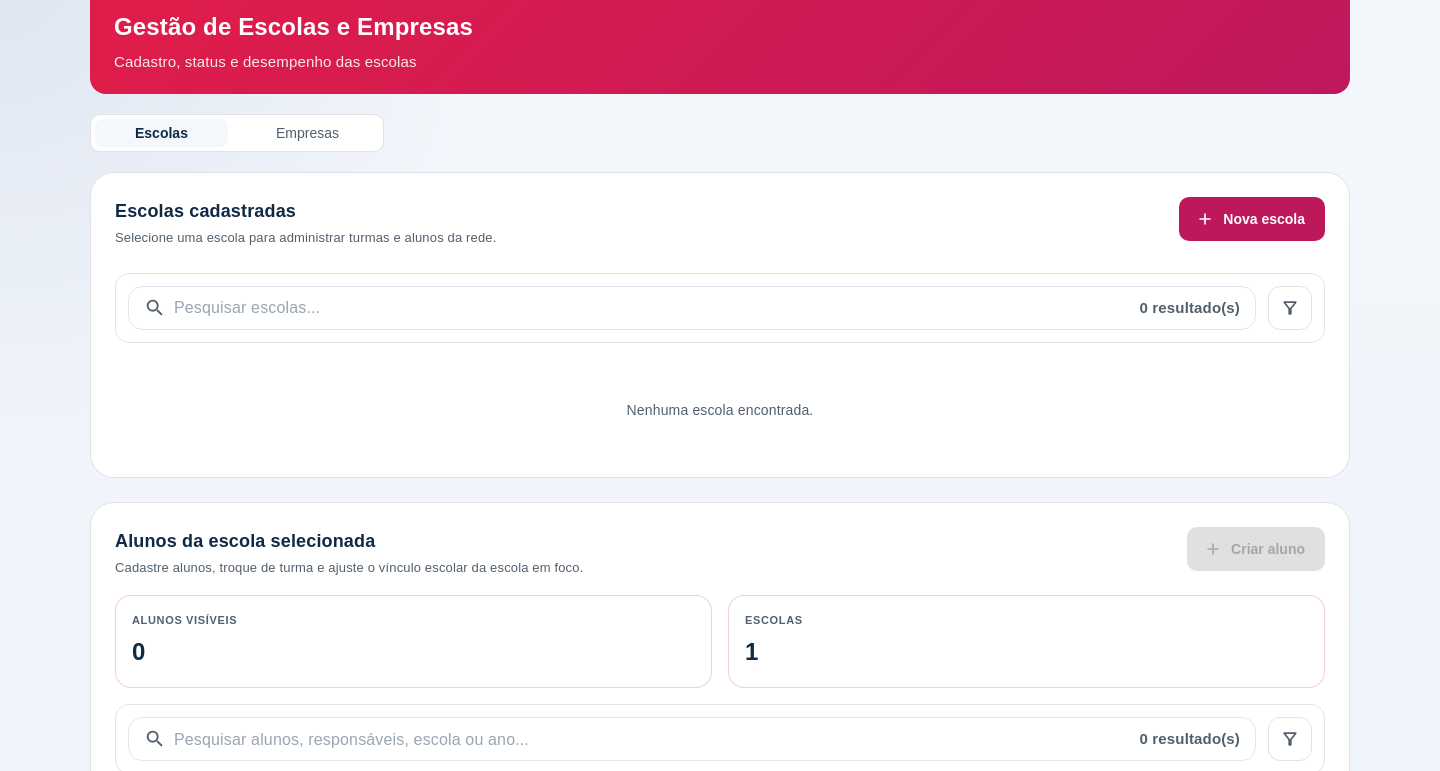
Test: SchoolCompanyPage shows empty requests message
The width and height of the screenshot is (1440, 771).
Click the button with test id "toggle-empresa".
click(307, 133)  # box x1=236 y1=119 x2=379 y2=147
(page scrolled)
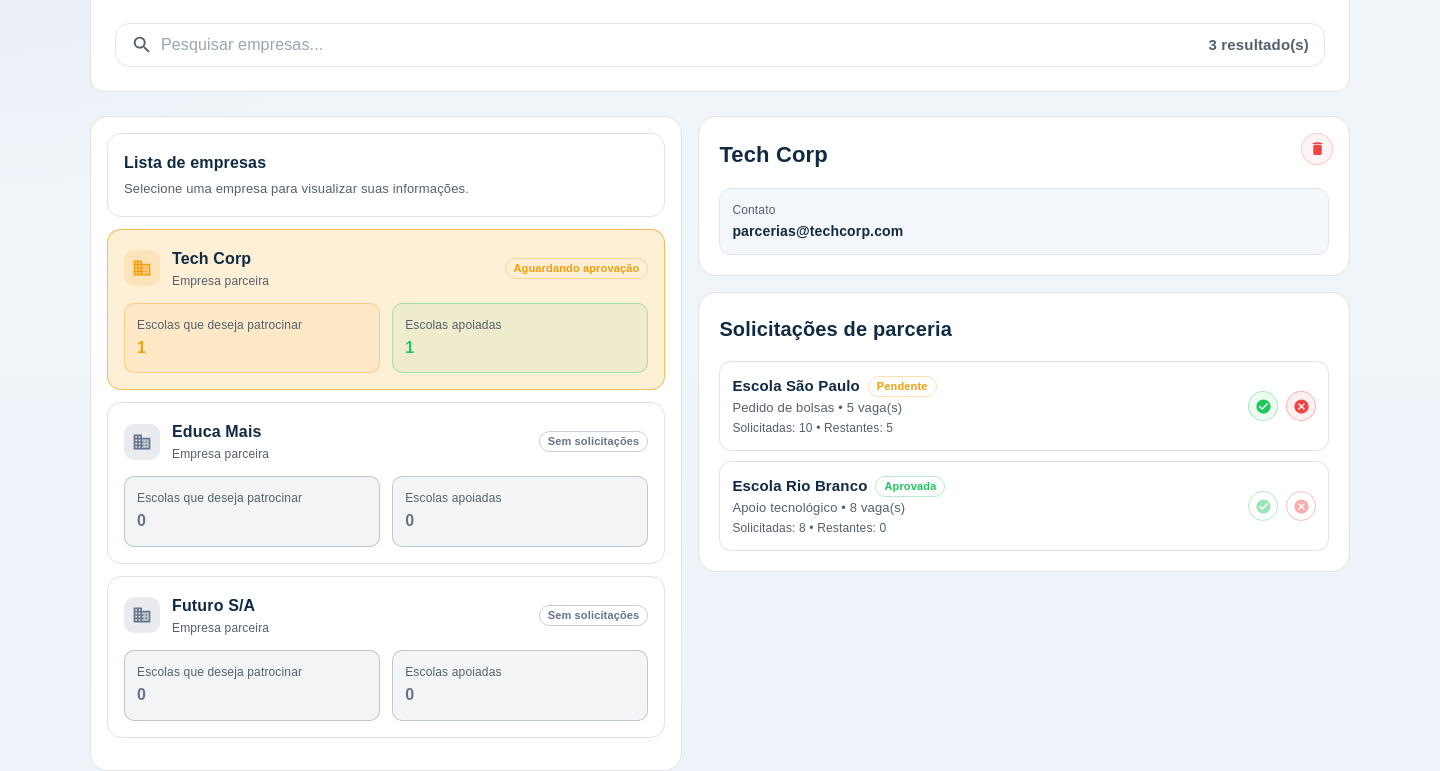
Result: the element with test id "company-item-company-1" is shown at x1=107 y1=229 x2=665 y2=390
Click the element with test id "company-item-company-3".
click(386, 483)  # box x1=107 y1=402 x2=665 y2=564
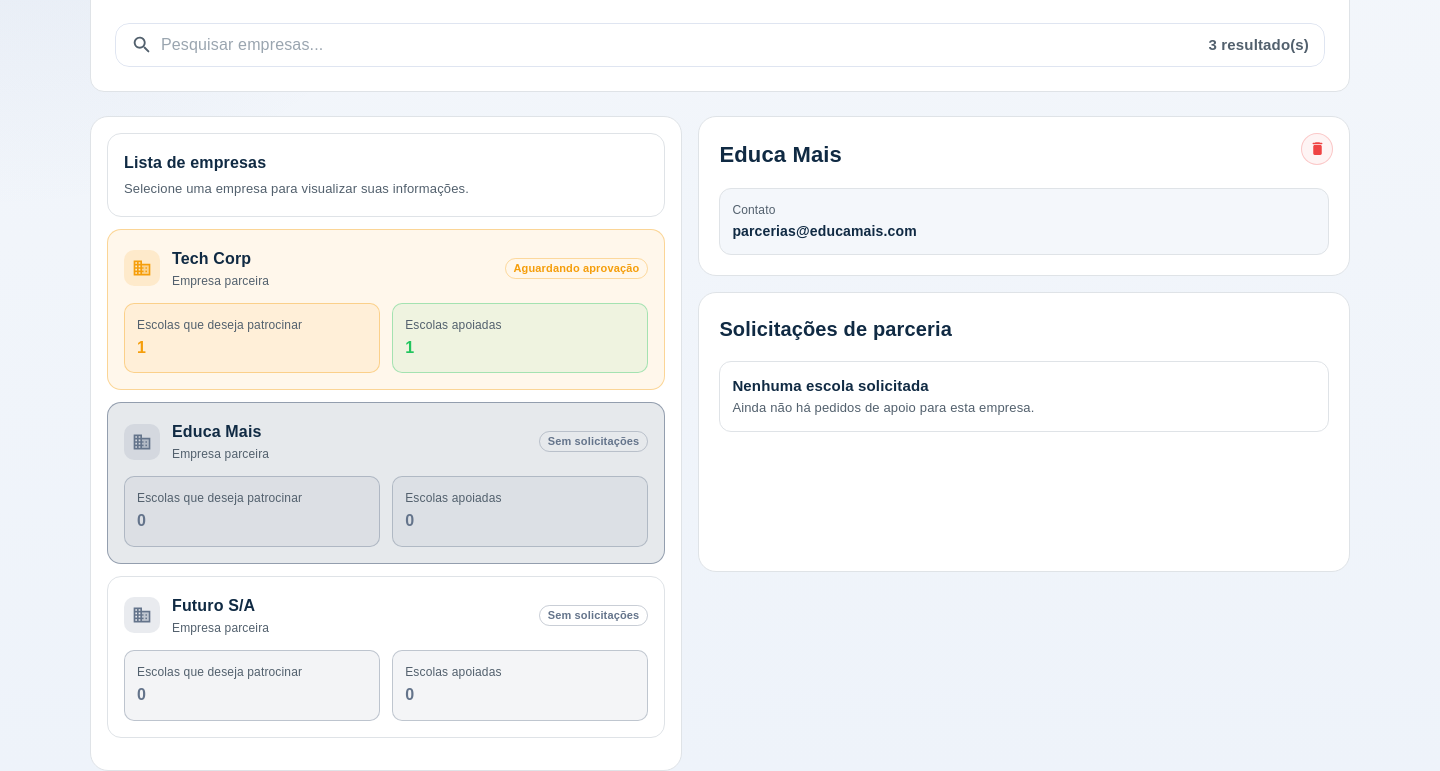
Result: the text "parcerias@educamais.com" is shown at x1=732 y1=223 x2=917 y2=239
Result: the text "Ainda não há pedidos de apoio para esta empresa." is shown at x1=732 y1=400 x2=1034 y2=415
